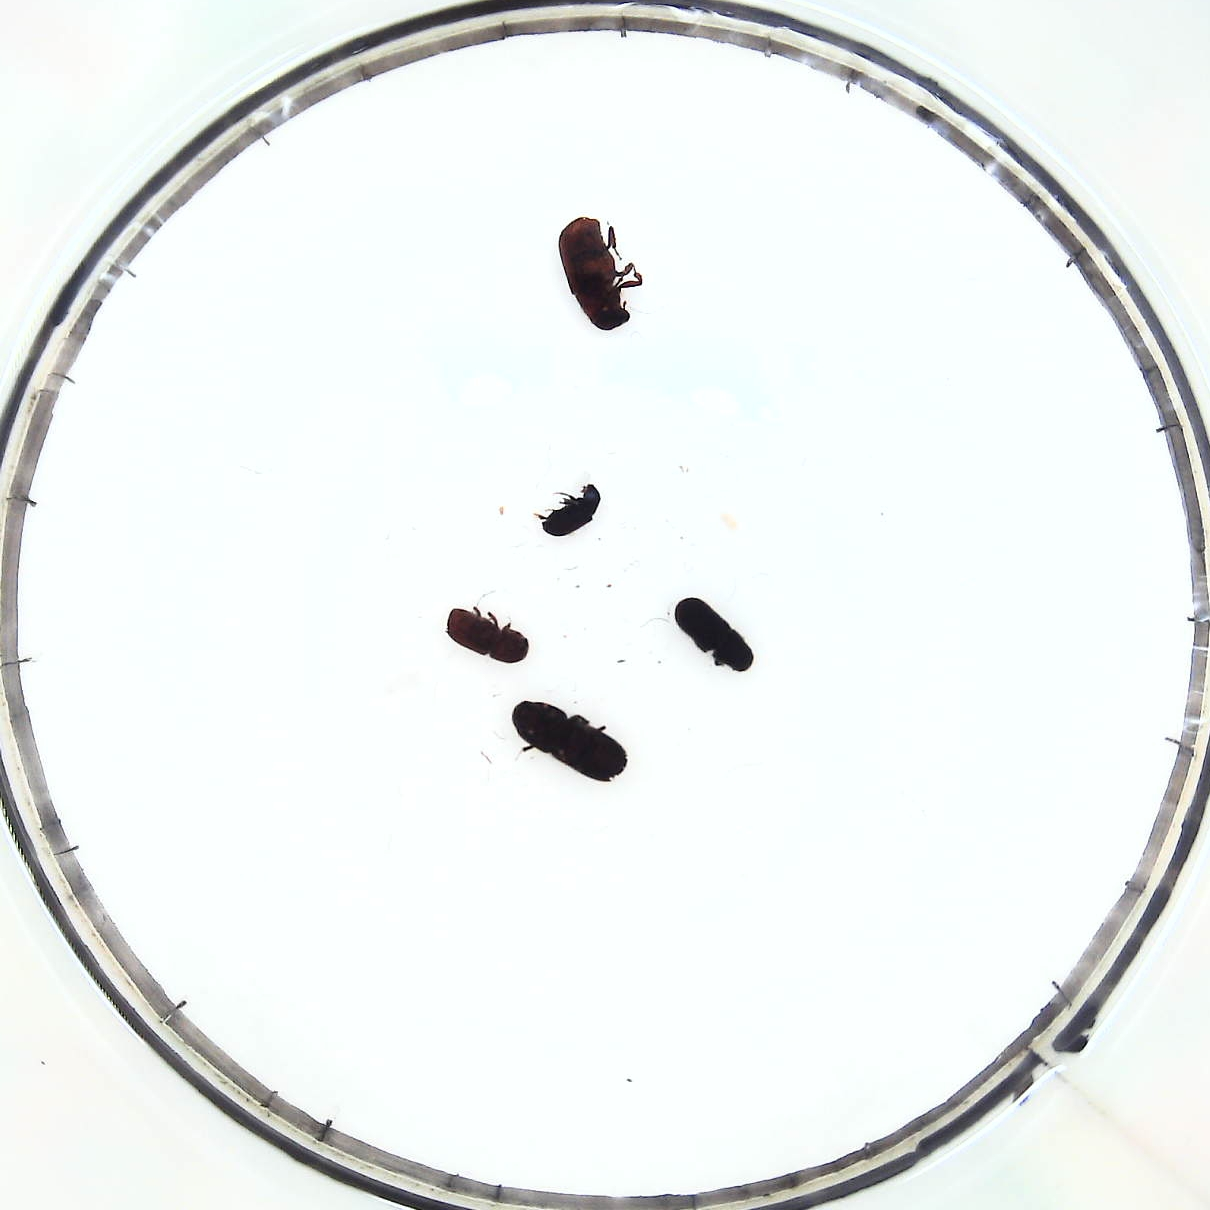Boerner: (514, 697, 632, 791)
Leconte: (555, 212, 635, 334)
Linnaeus: (444, 604, 529, 663)
armandi: (670, 592, 755, 680)
coleoptera: (539, 480, 602, 539)
